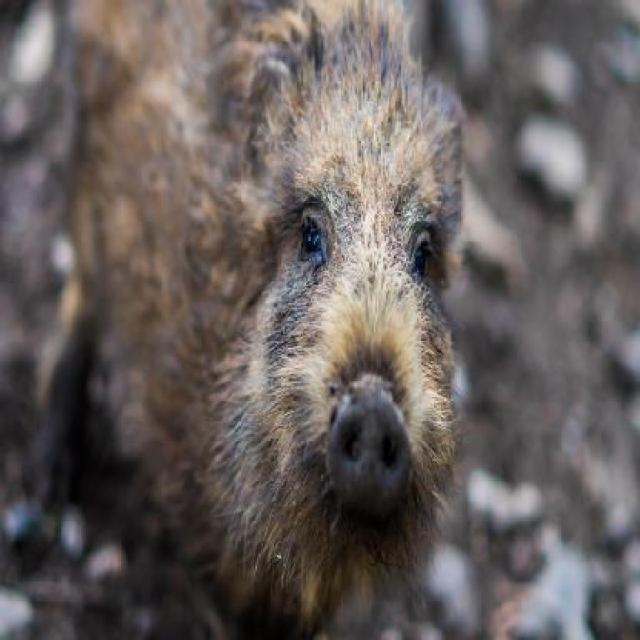wildboar: (45, 0, 486, 640)
